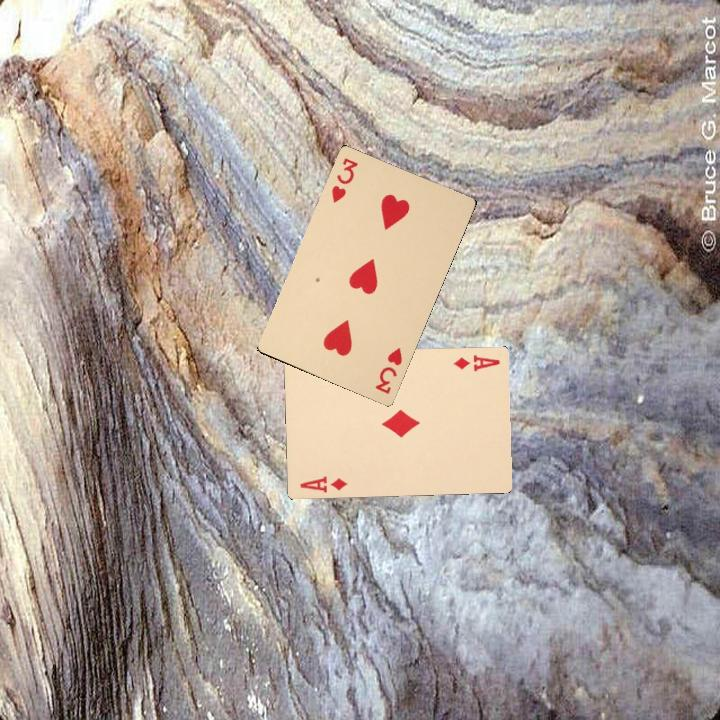3h: (371, 343, 405, 397), (327, 154, 361, 205)
Ad: (449, 351, 502, 374), (296, 472, 348, 495)
